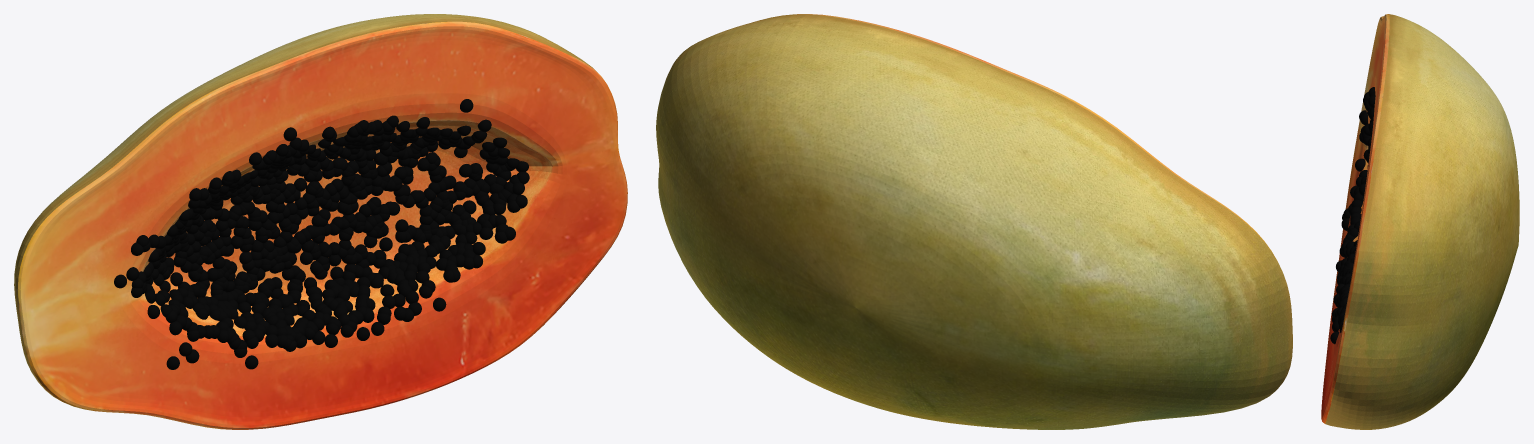
Rendered from half_papaya.glb.
The picture shows the model from 3 angles, left to right: view 1: azimuth 30°, elevation 25°; view 2: azimuth 150°, elevation 25°; view 3: azimuth 270°, elevation 25°; orthographic projection. The views are drawn at different scales.
Visible parts, largest first — view 1: papaya; view 2: papaya; view 3: papaya.
Boxes of the visible parts, x1,y1,x2,y2 form: papaya: (14, 14, 627, 429); papaya: (656, 14, 1292, 429); papaya: (1321, 14, 1519, 429).
Size of the model in its own units: 423 by 238 by 130.
Materials: 2 (1 with a texture image).
